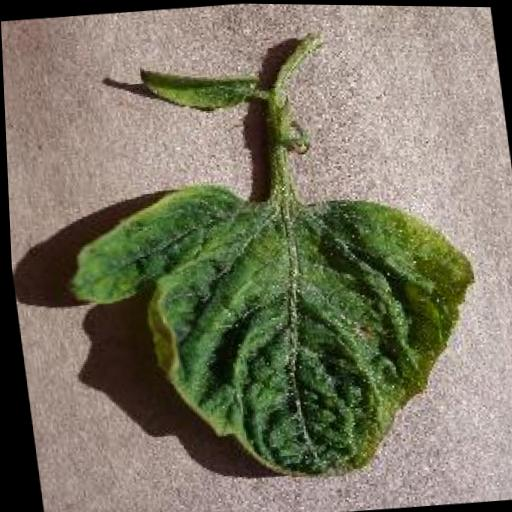Yellow Leaf Curl Virus: (51, 152, 502, 504)
